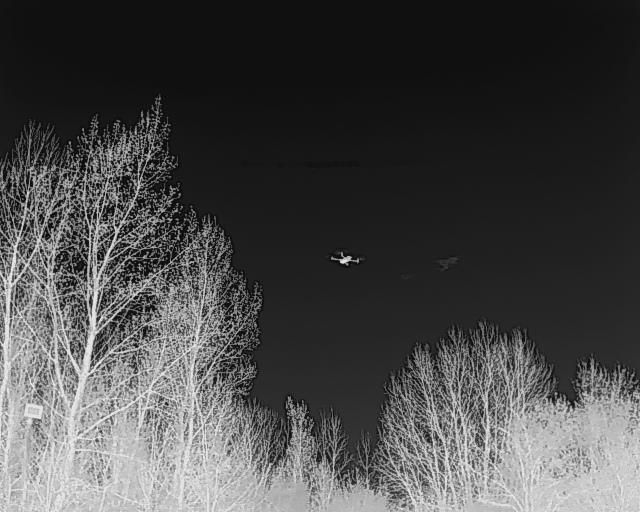drone: (322, 246, 367, 272)
